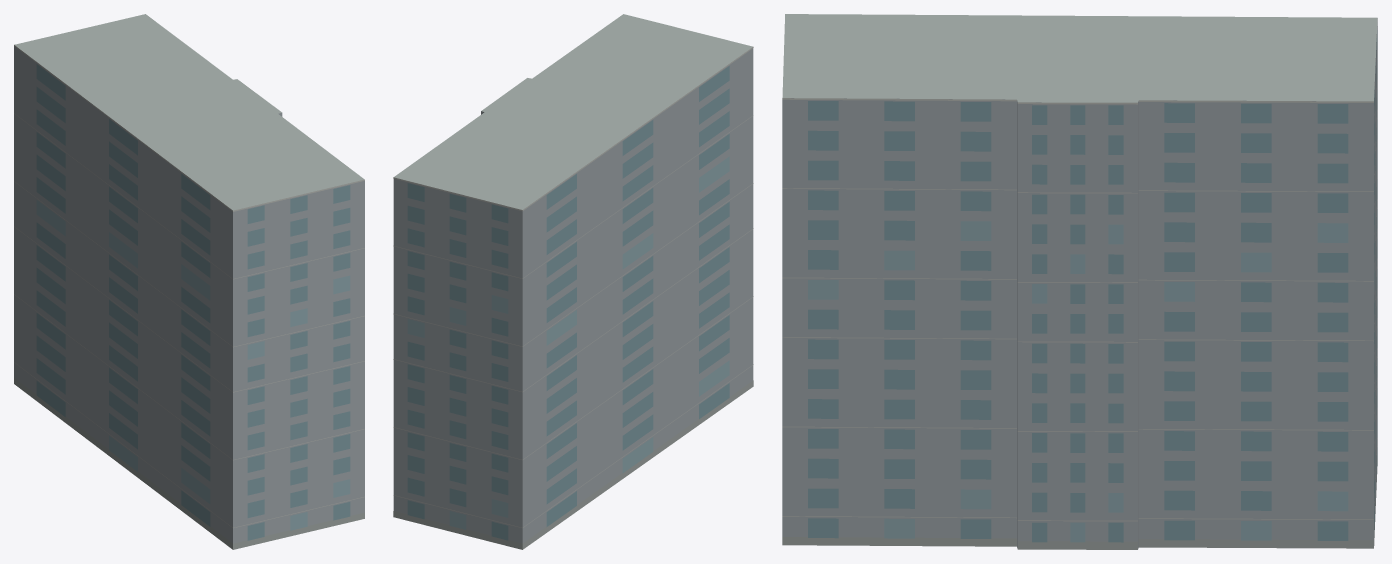
Rendered from survey-upis-32650779.glb.
3 views of the same model, side by side, from view 1: azimuth 30°, elevation 25°; view 2: azimuth 150°, elevation 25°; view 3: azimuth 270°, elevation 25° (orthographic). The views are drawn at different scales.
Visible parts, largest first — view 1: survey-upis-32650779.tmp; view 2: survey-upis-32650779.tmp; view 3: survey-upis-32650779.tmp.
Part boxes in pixels (x1,y1,x2,y2): survey-upis-32650779.tmp: (14, 14, 364, 549); survey-upis-32650779.tmp: (393, 14, 753, 549); survey-upis-32650779.tmp: (782, 14, 1377, 549).
Bounding box in the file's own units: 27.3 × 64.04 × 77.26.
